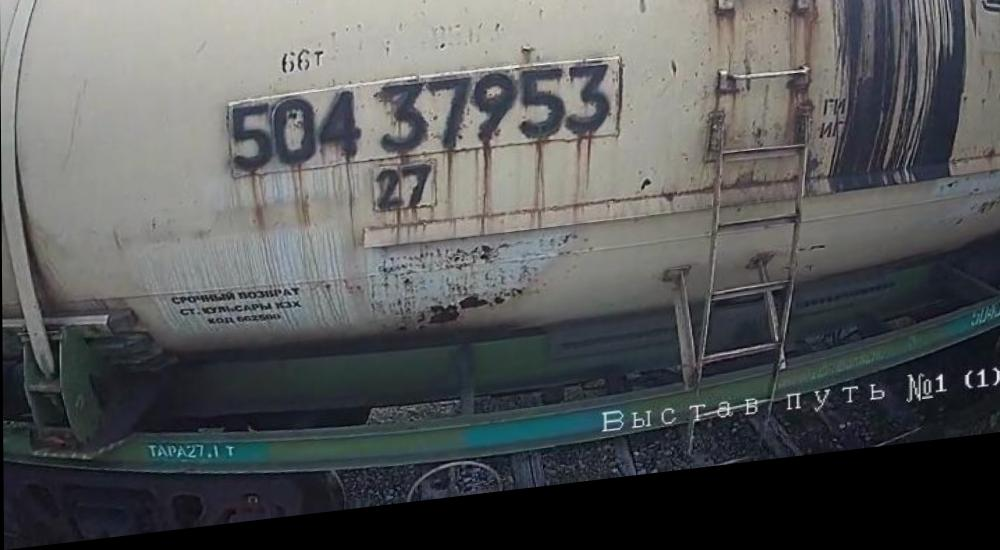Wagon-number: (228, 66, 619, 189)
